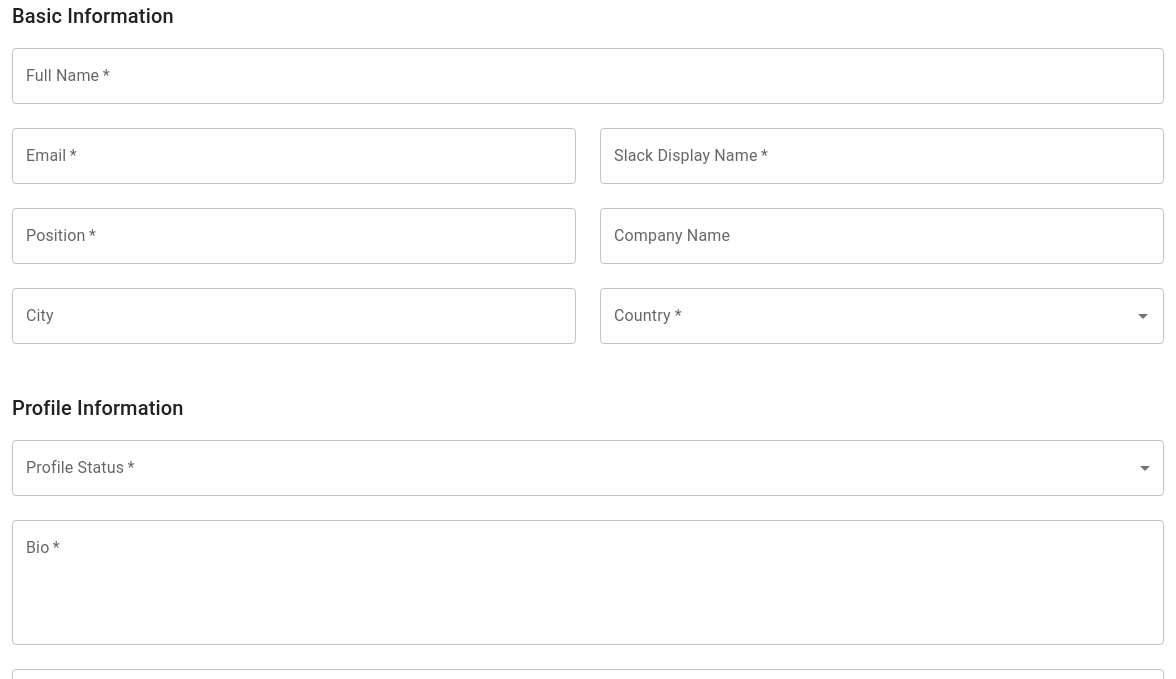
Test case: CreateMentorForm › shows email validation error for invalid email format
Type "invalid-email" into the field labelled "Email *".
click(294, 156); type("invalid-email")  # box [12,128,576,184]
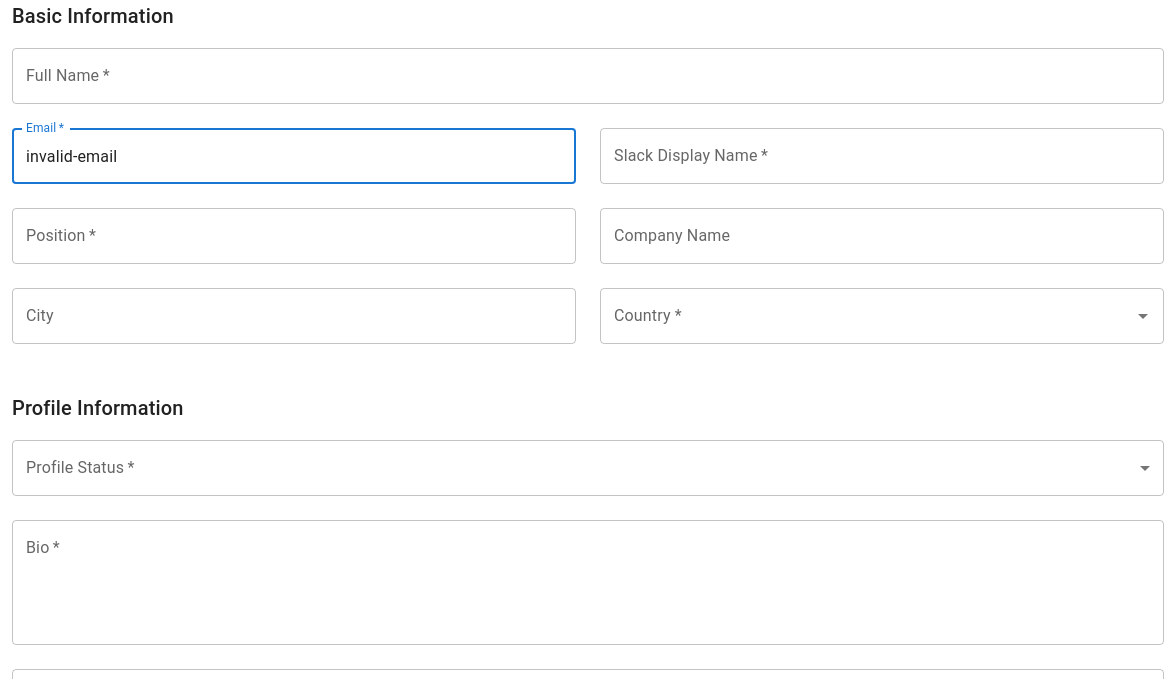
Press Tab
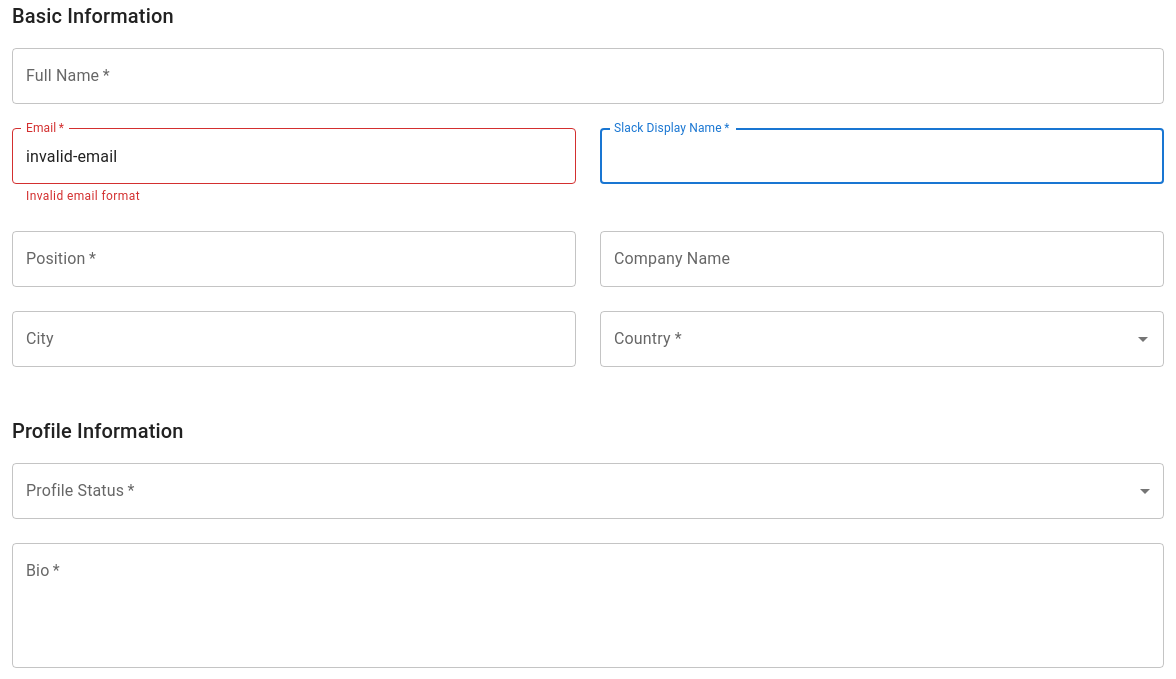
Result: the text "Invalid email format" is shown at [26,189,140,203]
